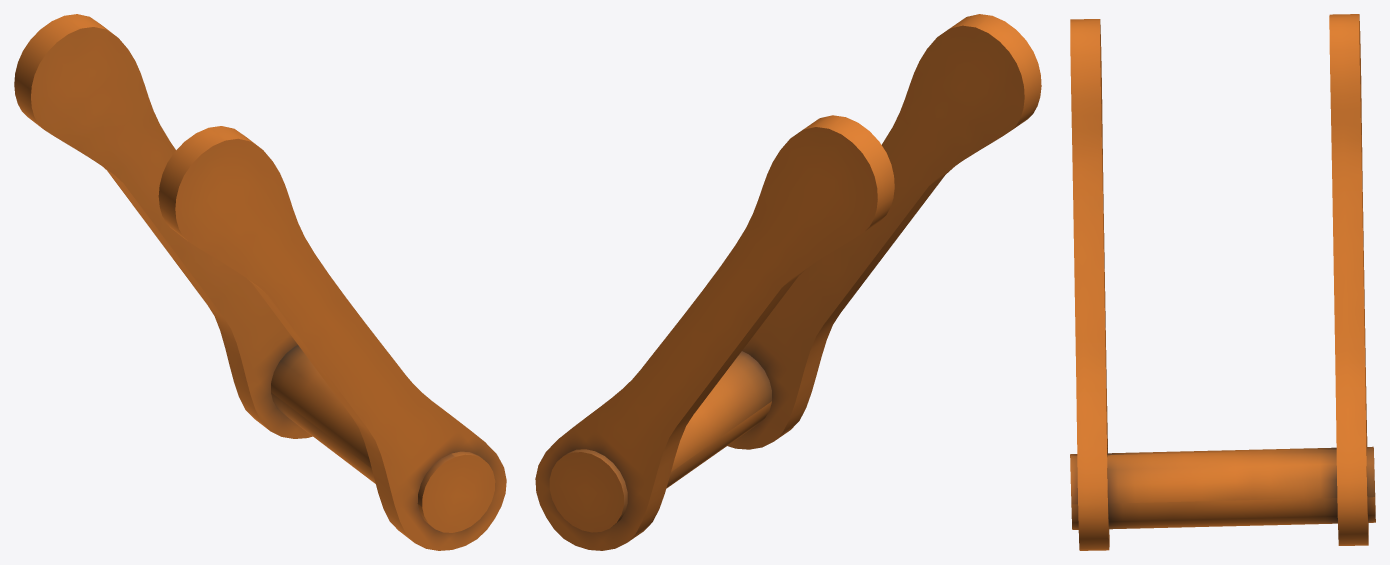
The picture shows the model from 3 angles, left to right: view 1: azimuth 30°, elevation 25°; view 2: azimuth 150°, elevation 25°; view 3: azimuth 270°, elevation 25°; orthographic projection. The views are drawn at different scales.
Parts seen in each view (by area): view 1: arm-part-part1.002; view 2: arm-part-part1.002; view 3: arm-part-part1.002.
Boxes of the visible parts, <box> form: arm-part-part1.002: <box>14,14,506,550</box>; arm-part-part1.002: <box>535,14,1041,550</box>; arm-part-part1.002: <box>1070,14,1375,550</box>.
Size of the model in its own units: 0.4771 by 0.4207 by 0.6467.
Materials: 1 (1 with a texture image).
